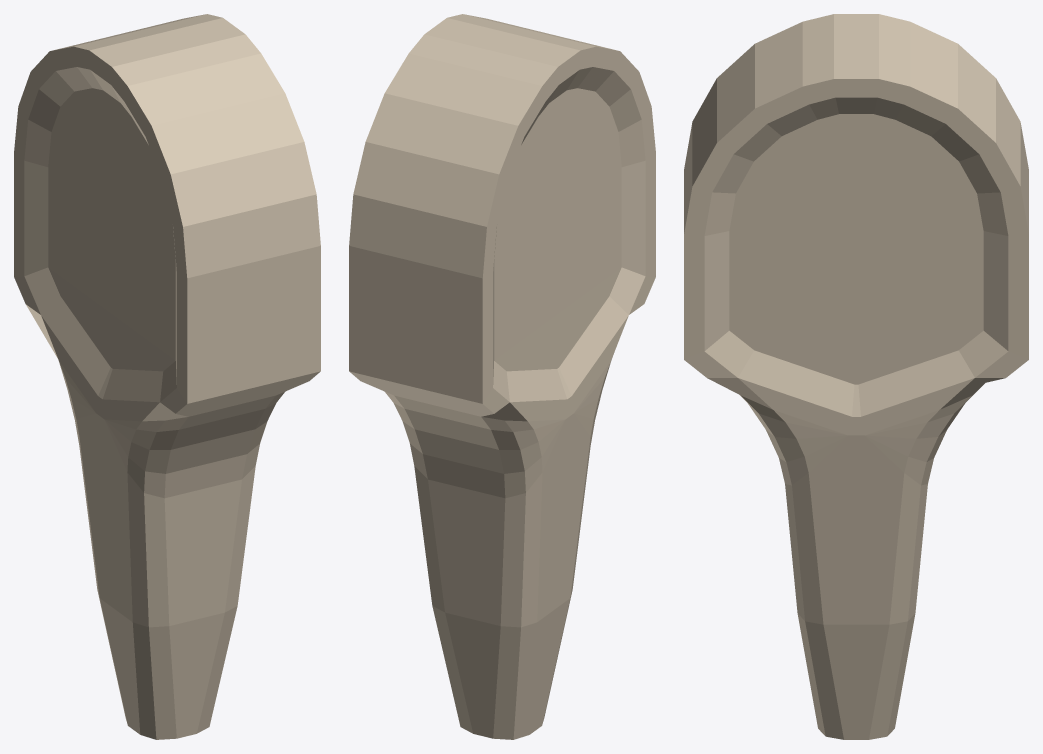
File: Haltere.fbx
3 renders of one model, left to right at view 1: azimuth 30°, elevation 25°; view 2: azimuth 150°, elevation 25°; view 3: azimuth 270°, elevation 25°, orthographic.
Parts seen in each view (by area): view 1: Haltere; view 2: Haltere; view 3: Haltere.
Boxes of the visible parts, <box> form: Haltere: <box>14,14,320,739</box>; Haltere: <box>349,14,655,739</box>; Haltere: <box>684,14,1028,739</box>.
Size of the model in its own units: 45.24 by 219 by 101.
